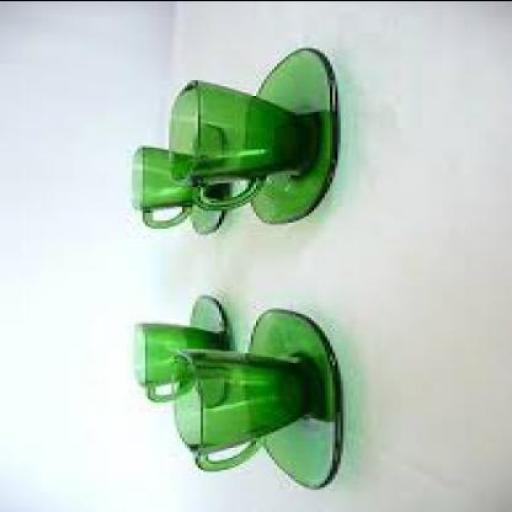glass: (166, 80, 307, 208), (242, 306, 341, 488), (169, 346, 317, 466), (240, 46, 332, 222), (130, 318, 211, 400), (127, 144, 208, 225), (185, 292, 227, 406), (185, 120, 227, 232)
